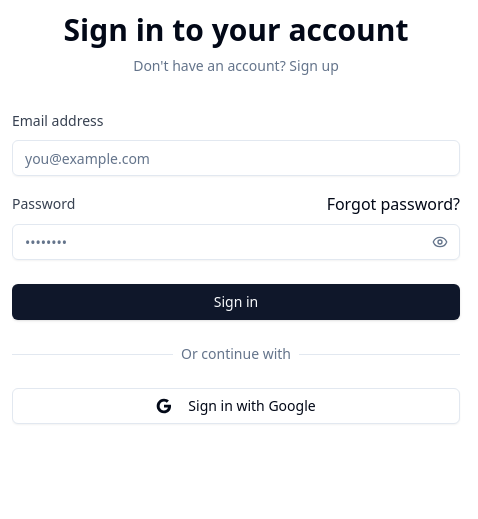
Test: LoginForm › Error Handling › clears previous error when starting new login attempt
The width and height of the screenshot is (478, 519).
Note: First failed attempt
Type "test@example.com" into the field labelled "Email address" at point(236, 158), box [12,140,460,176]
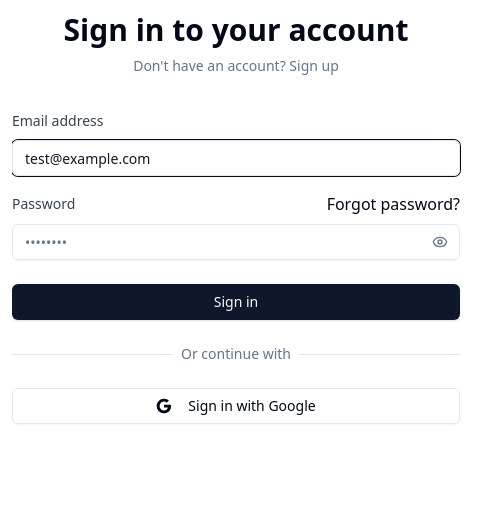
Type "wrong" into the password field labelled "Password" at point(236, 242), box [12,224,460,260]
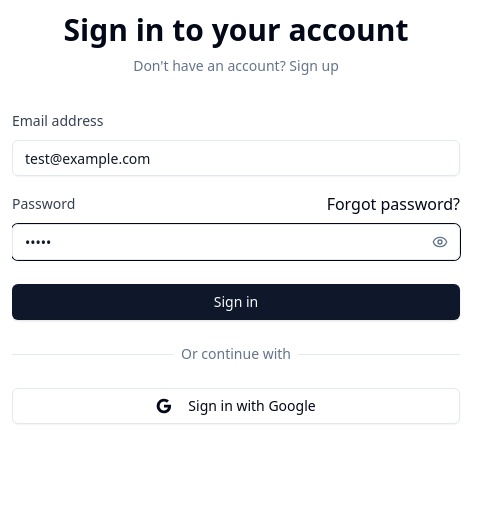
Click the button "Sign in" at point(236, 302), box [12,284,460,320]
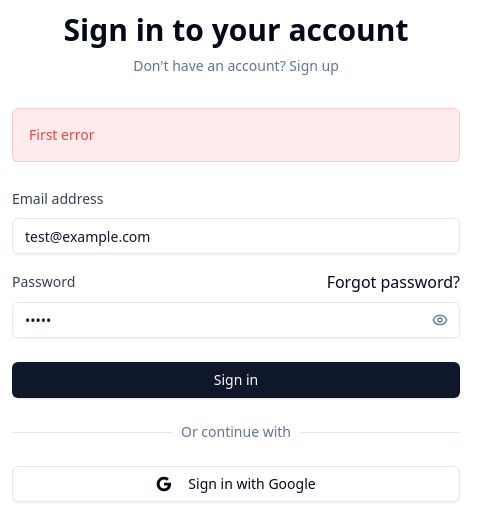
Result: the text "First error" is shown at [29,125,94,144]
Note: Second successful attempt
Type "correct" into the password field labelled "Password" at point(236, 320), box [12,302,460,338]
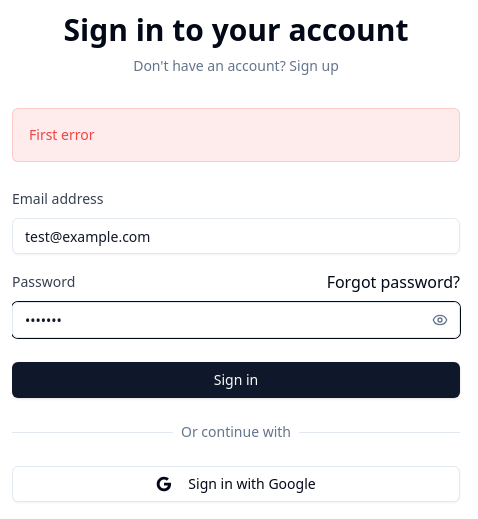
Click the button "Sign in" at point(236, 380), box [12,362,460,398]
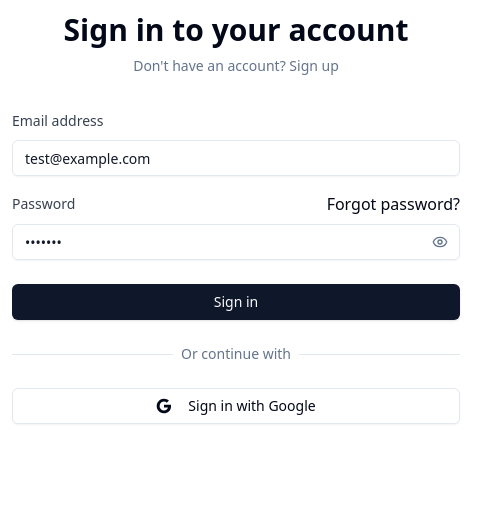
Result: the text "First error" is gone
